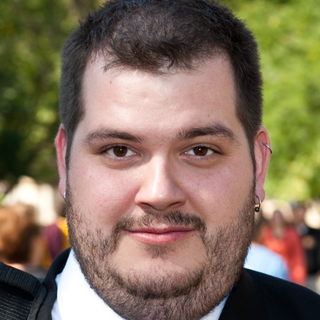eye: (93, 139, 142, 165), (177, 140, 227, 164)
